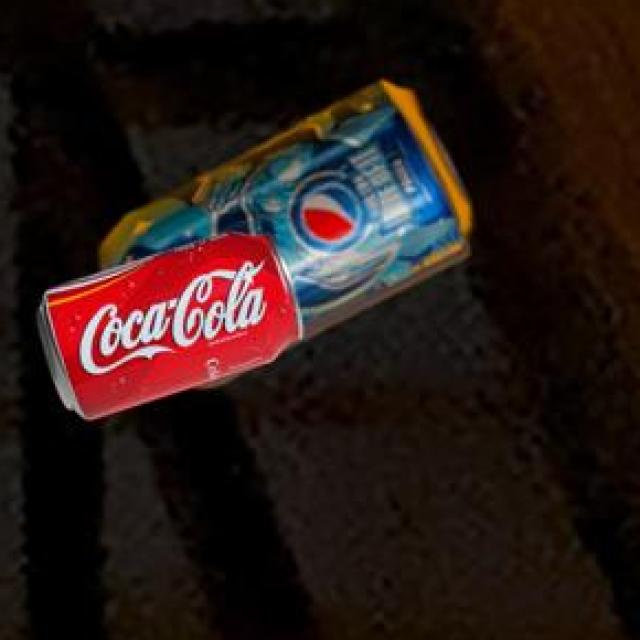logam: (105, 85, 473, 390), (41, 235, 306, 423)
